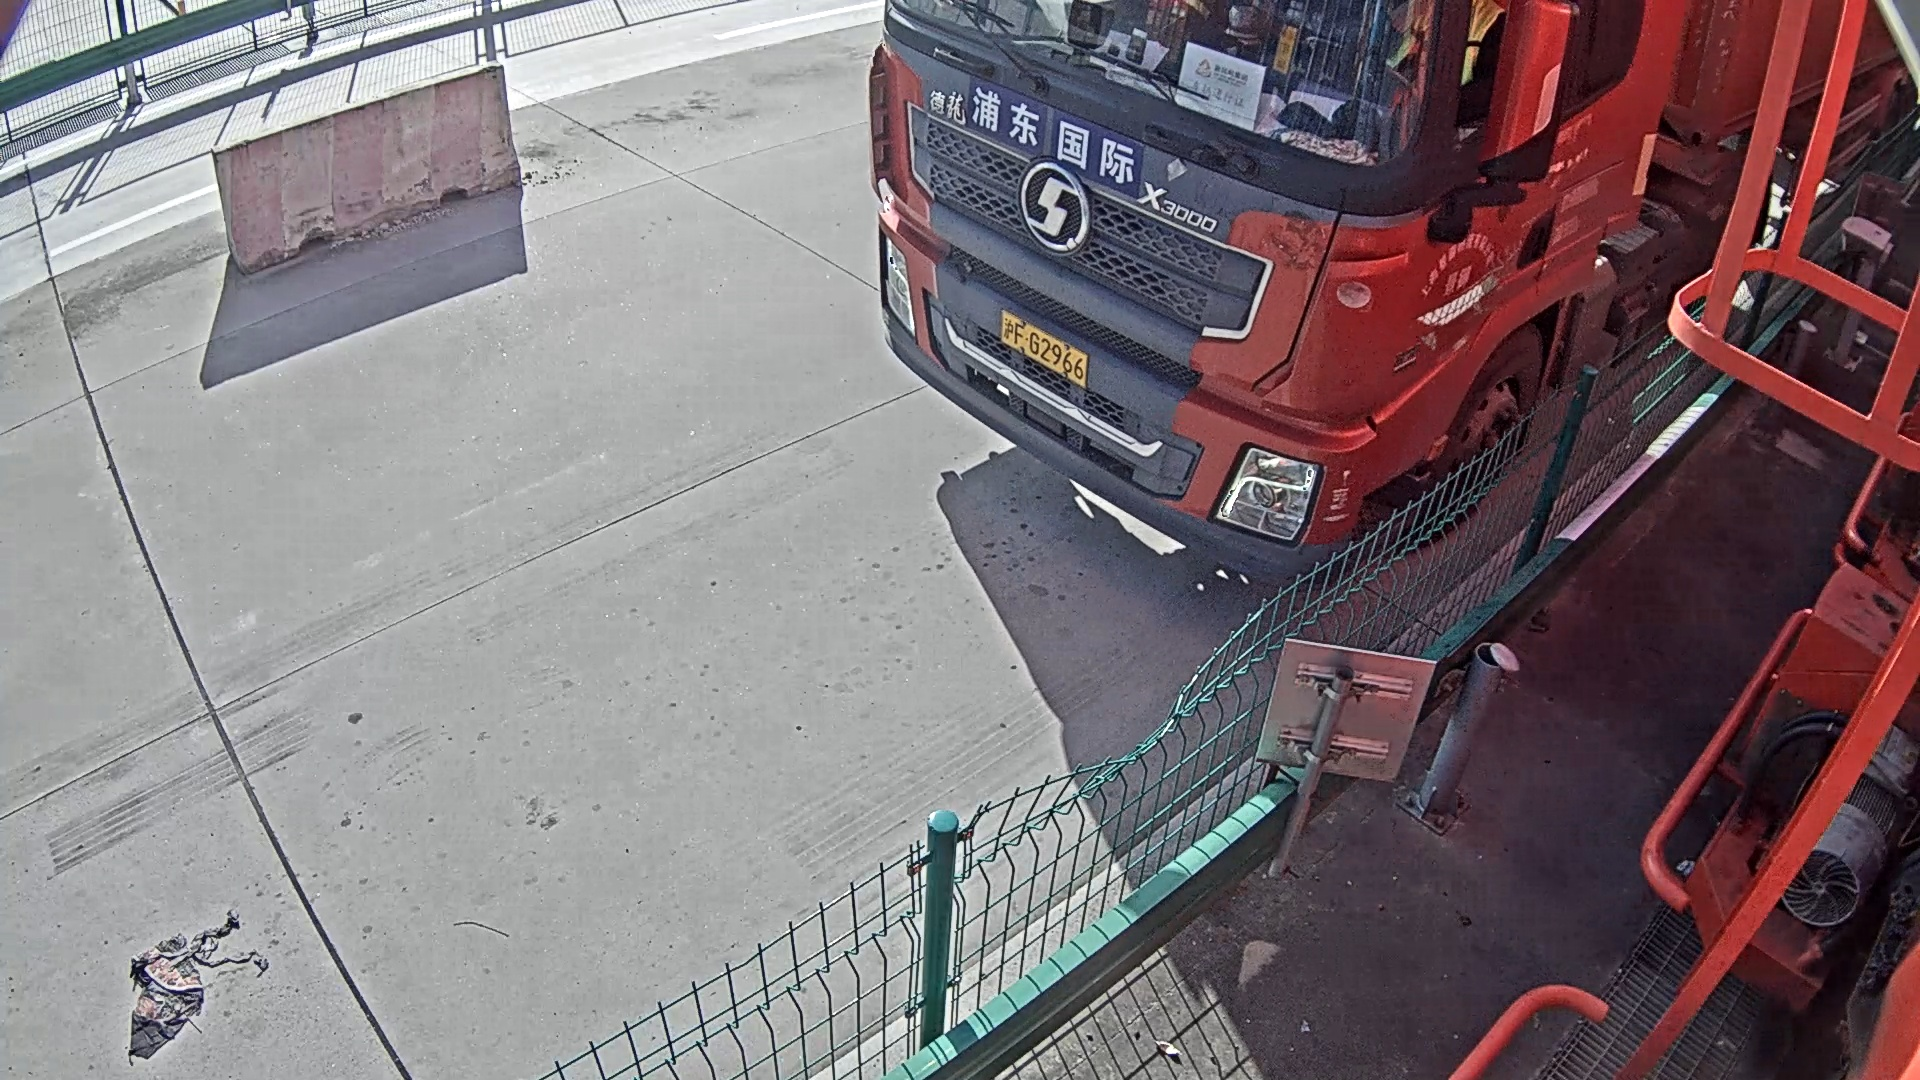head: (864, 1, 1657, 559)
plate: (998, 311, 1091, 381)
